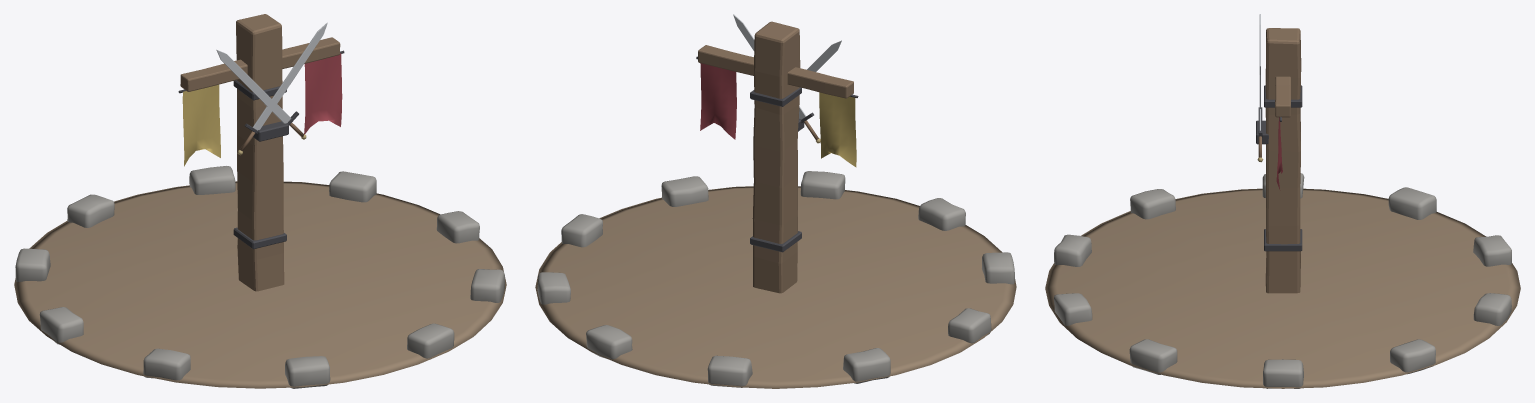
Rendered from duel_post.glb.
3 views of the same model, side by side, from view 1: azimuth 30°, elevation 25°; view 2: azimuth 150°, elevation 25°; view 3: azimuth 270°, elevation 25° (orthographic). The views are drawn at different scales.
Parts seen in each view (by area): view 1: duel_post; view 2: duel_post; view 3: duel_post.
Part boxes in pixels (x1=…): duel_post: x1=14, y1=14, x2=506, y2=388; duel_post: x1=535, y1=14, x2=1016, y2=388; duel_post: x1=1045, y1=14, x2=1520, y2=388.
Bounding box in the file's own units: 4.2 × 2.52 × 4.2.
